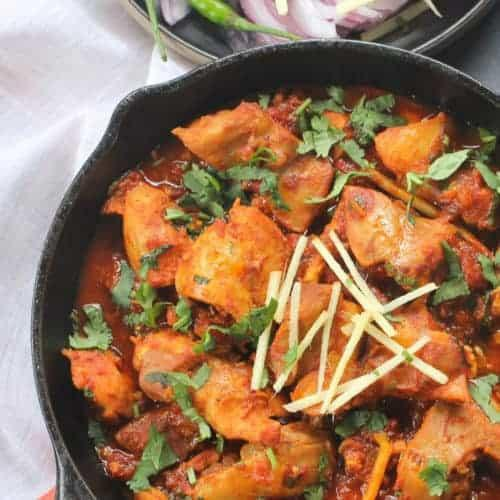AlooGobi: (59, 89, 500, 500)
